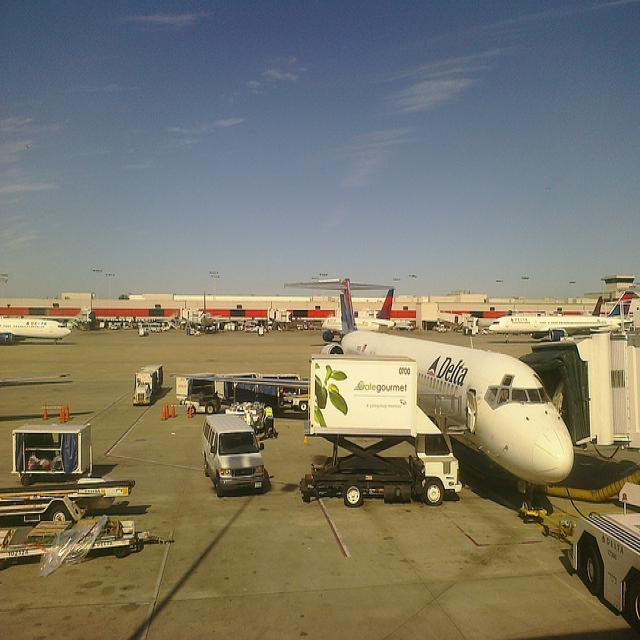Vehicle: (301, 432, 463, 510), (198, 409, 274, 496), (132, 364, 164, 405), (175, 374, 215, 404), (297, 324, 303, 330), (304, 324, 308, 330)
